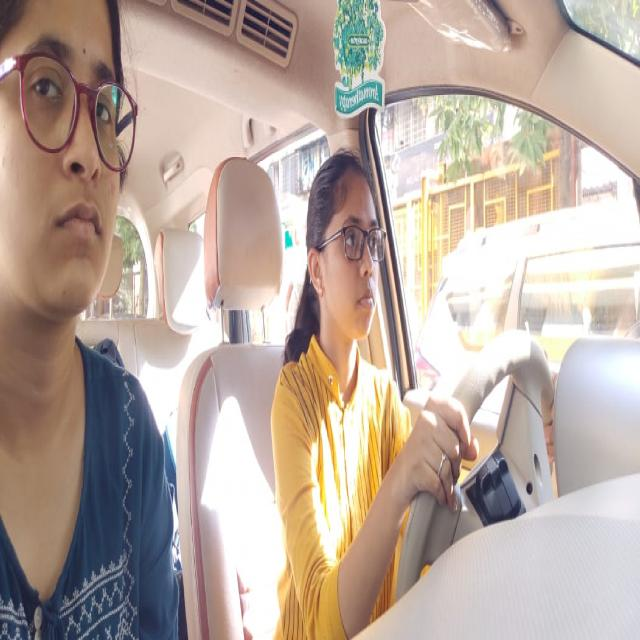person: (0, 0, 137, 323), (309, 142, 388, 358)
